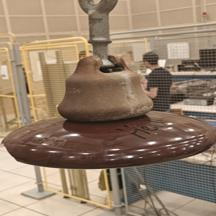insulator: (4, 50, 216, 173)
